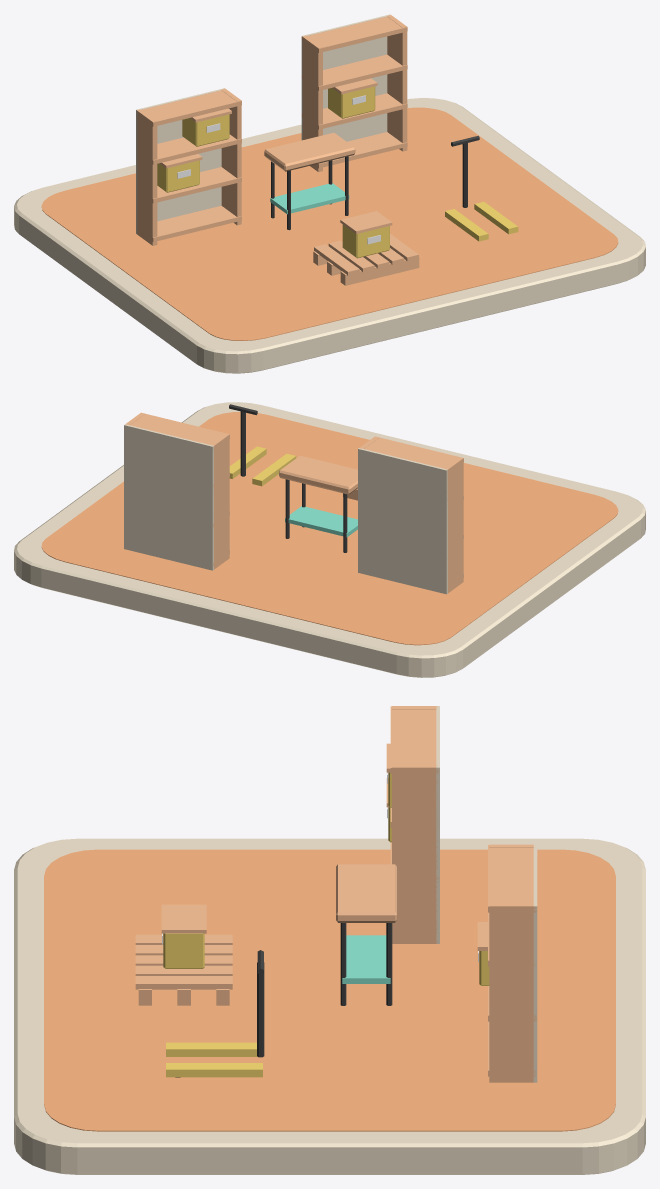
3 renders of one model, top to bottom at view 1: azimuth 30°, elevation 25°; view 2: azimuth 150°, elevation 25°; view 3: azimuth 270°, elevation 25°, orthographic. The views are drawn at different scales.
Parts seen in each view (by area): view 1: COM-02 Floor Surface, COM-01 Rounded Base Direct, Back.001, Back, Side, Worktop, Side.003, Side.002, Shelf.007, Shelf.003, Side.001, Shelf.006 (+15 smaller); view 2: COM-02 Floor Surface, COM-01 Rounded Base Direct, Back, Back.001, Worktop, Side, Side.002, Shelf.007, Shelf.003, Lower shelf, Fork, Fork.001; view 3: COM-02 Floor Surface, COM-01 Rounded Base Direct, Side.003, Side.001, Worktop, Shelf.003, Shelf.007, Lower shelf, Box.003, Fork.001, Lid.003, Fork (+5 smaller).
Boxes of the visible parts, x1,y1,x2,y2 form: COM-02 Floor Surface: [41, 107, 618, 340]; COM-01 Rounded Base Direct: [14, 98, 645, 373]; Back.001: [301, 14, 390, 141]; Back: [136, 88, 224, 234]; Side: [137, 109, 157, 245]; Worktop: [264, 132, 355, 171]; Side.003: [387, 15, 407, 151]; Side.002: [302, 35, 322, 171]; Shelf.007: [301, 16, 407, 52]; Shelf.003: [137, 90, 241, 126]; Side.001: [221, 88, 241, 225]; Shelf.006: [301, 54, 407, 90]; COM-02 Floor Surface: [41, 412, 618, 645]; COM-01 Rounded Base Direct: [14, 402, 645, 677]; Back: [358, 448, 447, 594]; Back.001: [124, 424, 213, 570]; Worktop: [279, 455, 357, 494]; Side: [444, 457, 463, 592]; Side.002: [210, 433, 229, 569]; Shelf.007: [130, 412, 229, 450]; Shelf.003: [364, 436, 463, 473]; Lower shelf: [285, 506, 357, 537]; Fork: [252, 453, 296, 486]; Fork.001: [229, 446, 266, 478]; COM-02 Floor Surface: [44, 849, 615, 1131]; COM-01 Rounded Base Direct: [14, 838, 645, 1174]; Side.003: [489, 903, 533, 1082]; Side.001: [392, 764, 438, 943]; Worktop: [336, 864, 396, 922]; Shelf.003: [390, 706, 438, 773]; Shelf.007: [488, 845, 536, 912]; Lower shelf: [342, 935, 390, 983]; Box.003: [163, 933, 204, 968]; Fork.001: [166, 1063, 262, 1077]; Lid.003: [161, 904, 206, 933]; Fork: [166, 1042, 257, 1056].
Bounding box in the file's own units: 6 × 1.9 × 5.2.
1 material, 1 textured.
